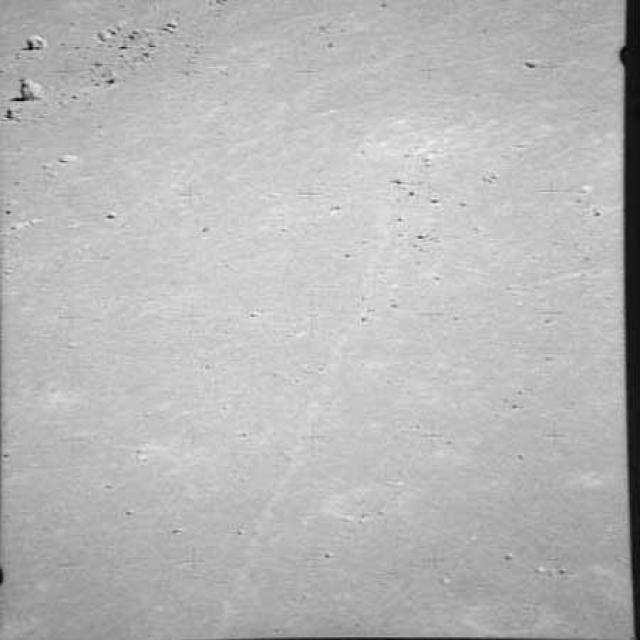rock: (11, 75, 49, 107), (14, 33, 54, 61)
